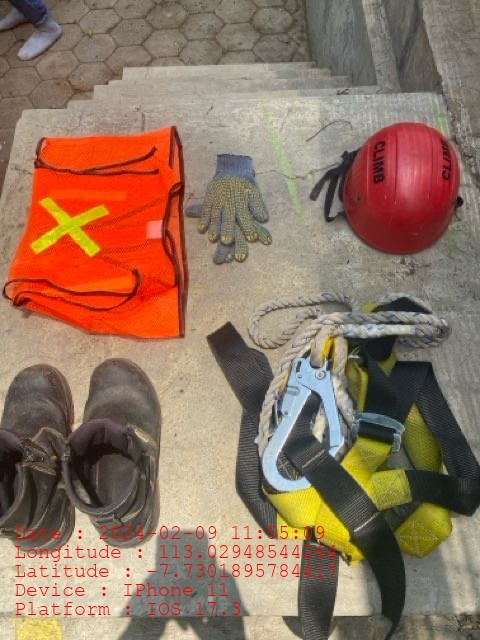HELM: (343, 122, 460, 253)
ROMPI: (14, 129, 183, 335)
SARUNG_TANGAN: (196, 156, 271, 244)
TAMBANG_SLING: (248, 290, 450, 495)
